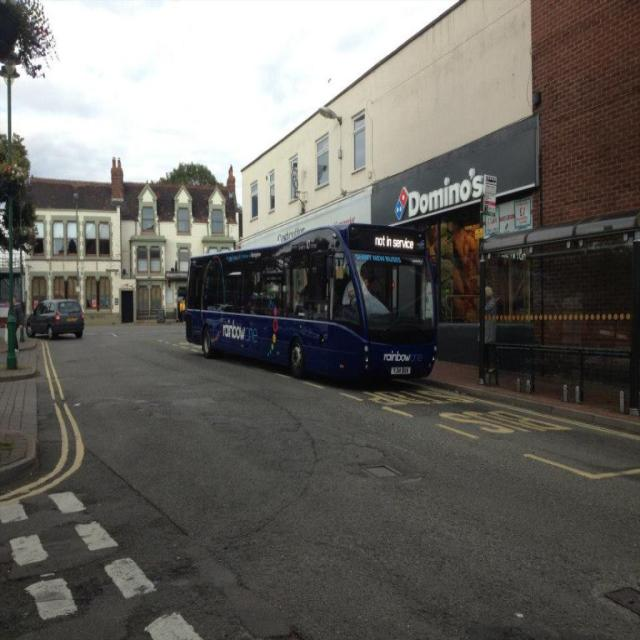car: (24, 299, 85, 340)
